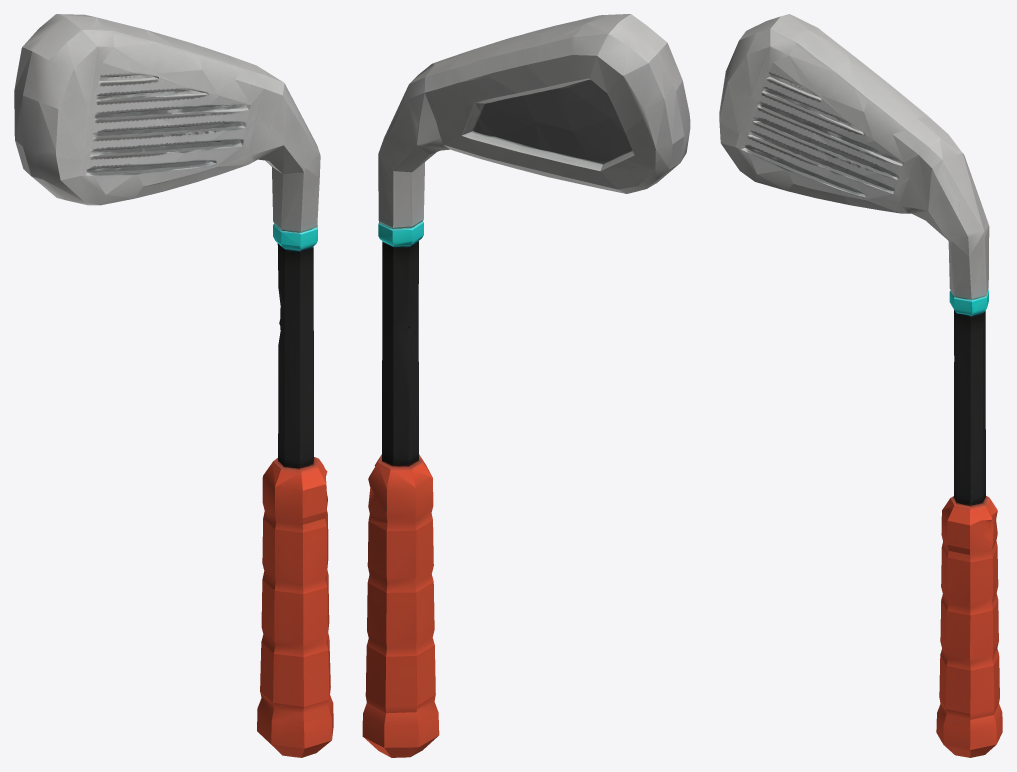
The model's file is source.glb.
3 renders of one model, left to right at view 1: azimuth 30°, elevation 25°; view 2: azimuth 150°, elevation 25°; view 3: azimuth 330°, elevation 25°, orthographic. The views are drawn at different scales.
Bounding box in the file's own units: 0.7933 × 1.9 × 0.2287.
1 material, 1 textured.
